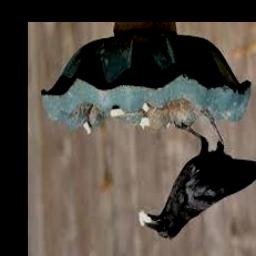Crow: (140, 111, 256, 241)
